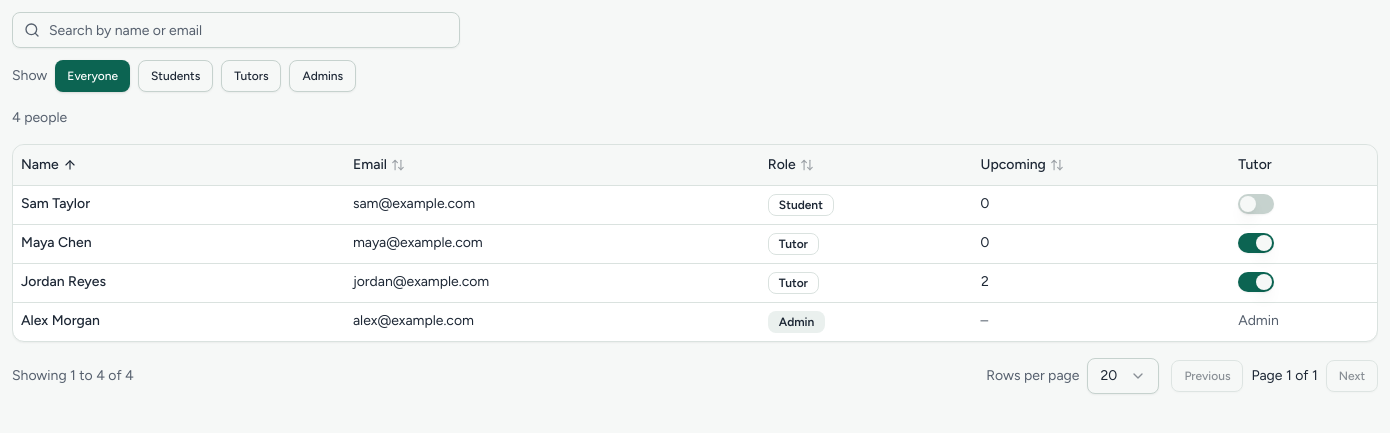
Test: turning someone into a tutor › shows the server's message under the switch when the change is refused
Expected: the cell "Sam Taylor" is shown, [13,186,345,224]
Click the switch named "Tutor: Sam Taylor" at coordinates (1256, 204), box [1238,194,1274,214]
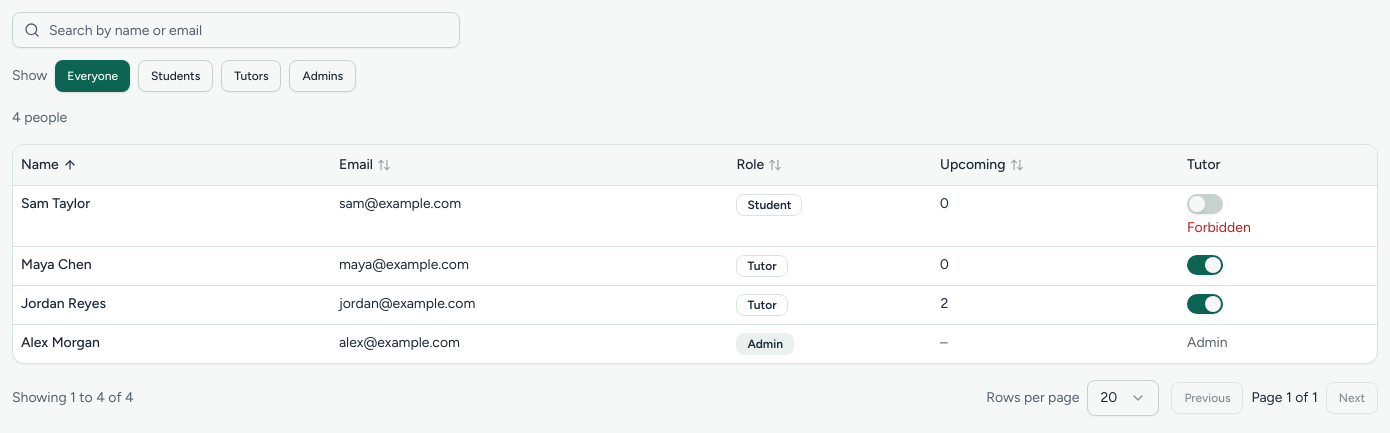
Expected: the message "Forbidden" is shown, [1187,218,1251,236]
